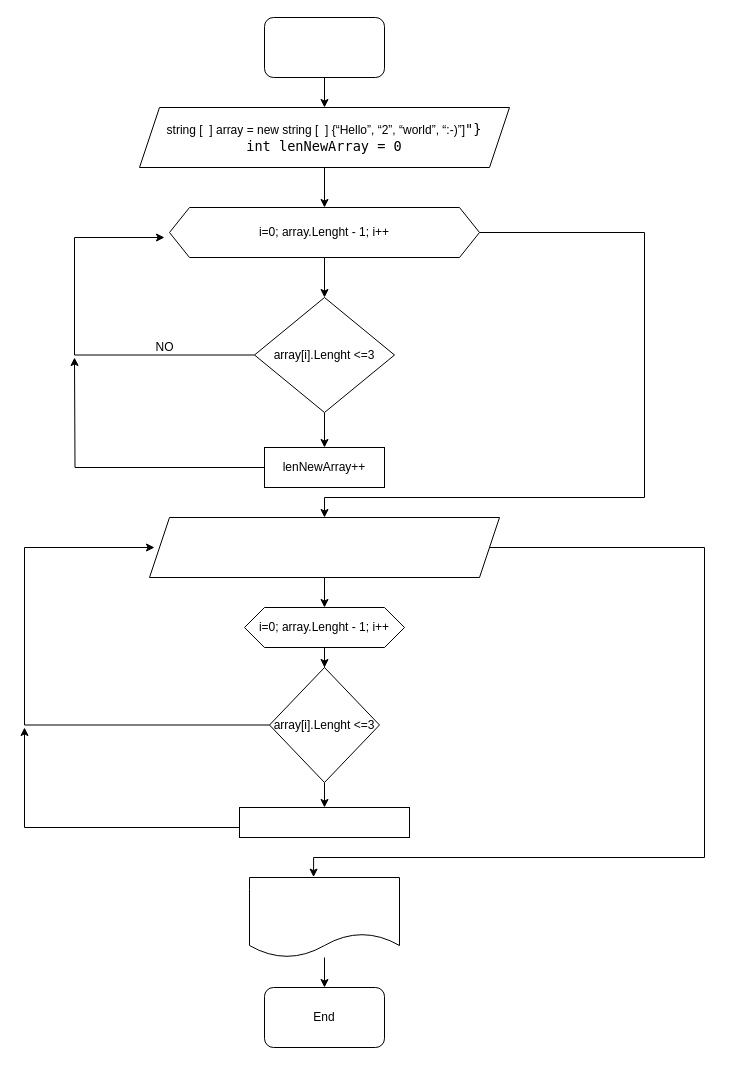
The diagram is 730 pixels wide and 1065 high, and some of its shapes have lost their labels. The shapes that lost their labels are listed below. From the top down, each one's centre as x and y in pixels, then its label:
pixel 324 47: Start
pixel 324 547: string [ ] newArray = new string [lenNewArray] int idx = 0;
pixel 324 822: newArray[idx] = array[i] idx++
pixel 324 917: PrintArray(array) Console.Write(" → ") PrintArray(newArray)
